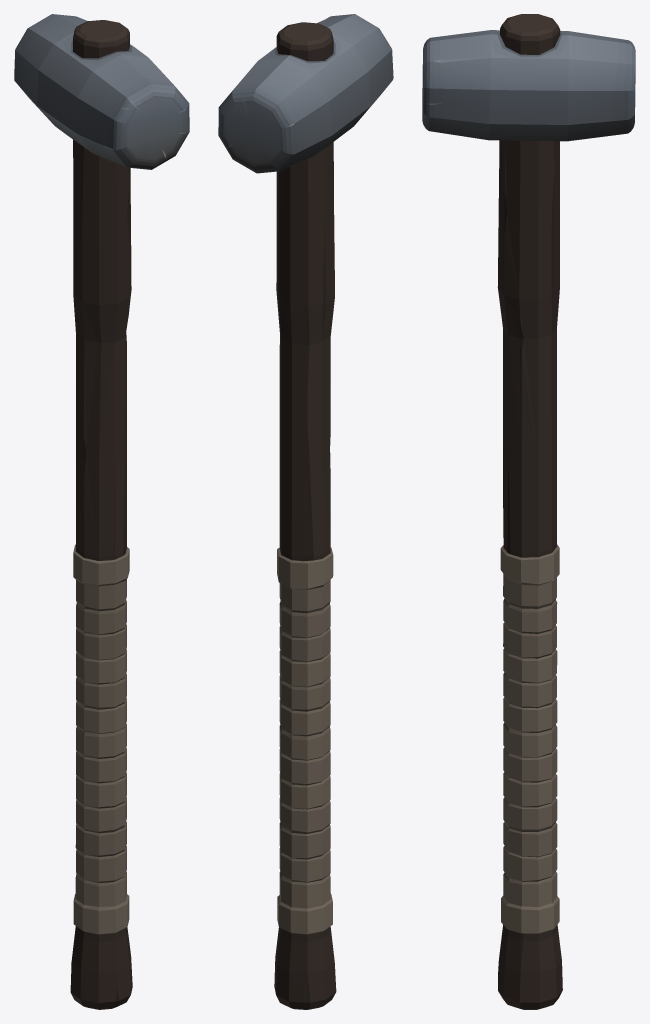
Rendered from bluntHeavyMaul.glb.
The picture shows the model from 3 angles, left to right: view 1: azimuth 30°, elevation 25°; view 2: azimuth 150°, elevation 25°; view 3: azimuth 270°, elevation 25°; orthographic projection.
Parts seen in each view (by area): view 1: bluntHeavyMaul; view 2: bluntHeavyMaul; view 3: bluntHeavyMaul.
Part boxes in pixels (x1,y1,x2,y2): bluntHeavyMaul: (14, 14, 189, 1009); bluntHeavyMaul: (218, 14, 393, 1009); bluntHeavyMaul: (422, 14, 635, 1009).
Size of the model in its own units: 0.098 by 1 by 0.1984.
